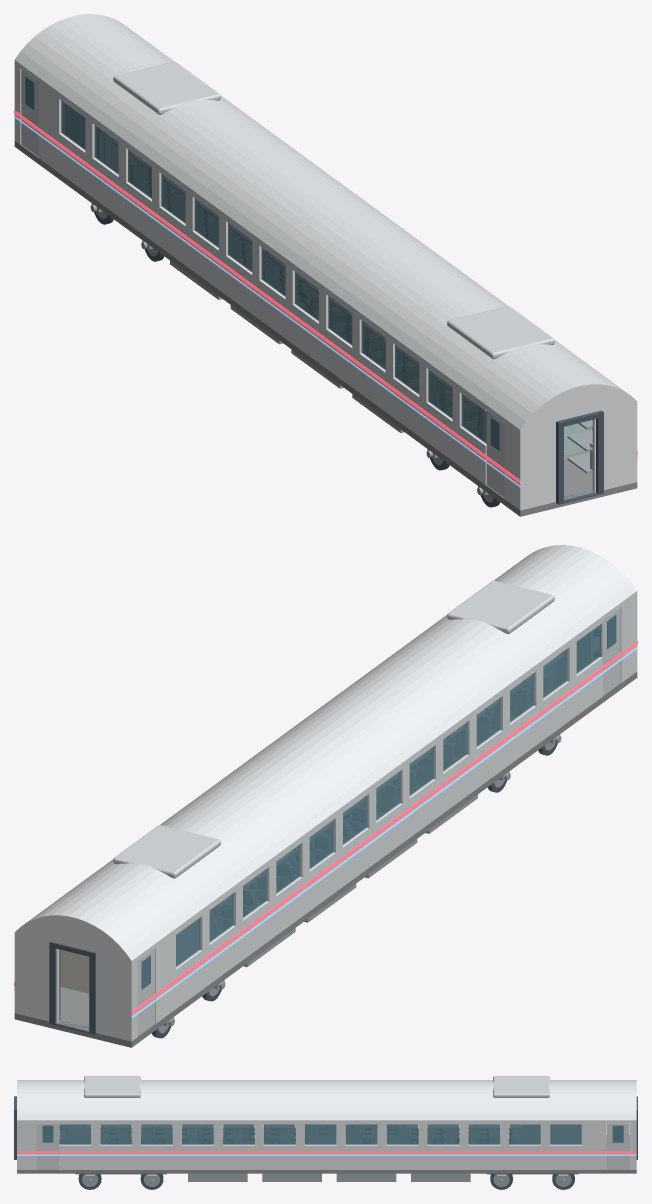
File: comfort.glb
3 views of the same model, one above another, from view 1: azimuth 30°, elevation 25°; view 2: azimuth 150°, elevation 25°; view 3: azimuth 270°, elevation 25° (orthographic). The views are drawn at different scales.
Visible parts, largest first — view 1: ComfortRoofShell, ComfortWallN1, ComfortGlassN1, ComfortEnd001, ComfortFloor, ComfortStripeN1, ComfortHVAC, ComfortHVAC001, ComfortRoofEnd001, ComfortGangway001, ComfortDoorN1_1, ComfortDoorN1_0 (+2 smaller); view 2: ComfortRoofShell, ComfortWallN1, ComfortGlassN1, ComfortEnd, ComfortFloor, ComfortStripeN1, ComfortHVAC001, ComfortHVAC, ComfortRoofEnd, ComfortGangway, ComfortDoorN1_1, ComfortDoorN1_0 (+2 smaller); view 3: ComfortRoofShell, ComfortWall1, ComfortGlass1, ComfortStripe1, ComfortFloor, ComfortUnderfloor, ComfortHVAC001, ComfortHVAC, ComfortDoor1_0, ComfortDoor1_1, ComfortBogie1, ComfortBogie0 (+1 smaller).
Boxes of the visible parts, x1=… form: ComfortRoofShell: x1=14, y1=14, x2=636, y2=429; ComfortWallN1: x1=14, y1=60, x2=524, y2=510; ComfortGlassN1: x1=61, y1=101, x2=486, y2=443; ComfortEnd001: x1=518, y1=402, x2=637, y2=509; ComfortFloor: x1=14, y1=141, x2=637, y2=516; ComfortStripeN1: x1=14, y1=110, x2=520, y2=487; ComfortHVAC: x1=113, y1=61, x2=220, y2=114; ComfortHVAC001: x1=447, y1=306, x2=554, y2=359; ComfortRoofEnd001: x1=518, y1=383, x2=636, y2=429; ComfortGangway001: x1=556, y1=410, x2=603, y2=504; ComfortDoorN1_1: x1=486, y1=410, x2=504, y2=497; ComfortDoorN1_0: x1=21, y1=69, x2=38, y2=156; ComfortRoofShell: x1=15, y1=545, x2=637, y2=960; ComfortWallN1: x1=127, y1=591, x2=637, y2=1041; ComfortGlassN1: x1=176, y1=624, x2=600, y2=966; ComfortEnd: x1=14, y1=933, x2=133, y2=1040; ComfortFloor: x1=14, y1=672, x2=637, y2=1047; ComfortStripeN1: x1=131, y1=641, x2=637, y2=1018; ComfortHVAC001: x1=447, y1=580, x2=554, y2=634; ComfortHVAC: x1=113, y1=825, x2=220, y2=878; ComfortRoofEnd: x1=17, y1=914, x2=133, y2=960; ComfortGangway: x1=49, y1=941, x2=95, y2=1034; ComfortDoorN1_1: x1=600, y1=607, x2=620, y2=695; ComfortDoorN1_0: x1=137, y1=948, x2=155, y2=1035; ComfortRoofShell: x1=17, y1=1080, x2=636, y2=1120; ComfortWall1: x1=17, y1=1120, x2=636, y2=1169; ComfortGlass1: x1=59, y1=1124, x2=581, y2=1144; ComfortStripe1: x1=17, y1=1151, x2=636, y2=1155; ComfortFloor: x1=17, y1=1135, x2=636, y2=1173; ComfortUnderfloor: x1=188, y1=1173, x2=470, y2=1181; ComfortHVAC001: x1=84, y1=1076, x2=140, y2=1097; ComfortHVAC: x1=493, y1=1076, x2=549, y2=1097; ComfortDoor1_0: x1=607, y1=1123, x2=629, y2=1169; ComfortDoor1_1: x1=36, y1=1123, x2=58, y2=1169; ComfortBogie1: x1=75, y1=1173, x2=166, y2=1189; ComfortBogie0: x1=487, y1=1173, x2=578, y2=1189.
Size of the model in its own units: 3.37 by 4.25 by 25.17.
